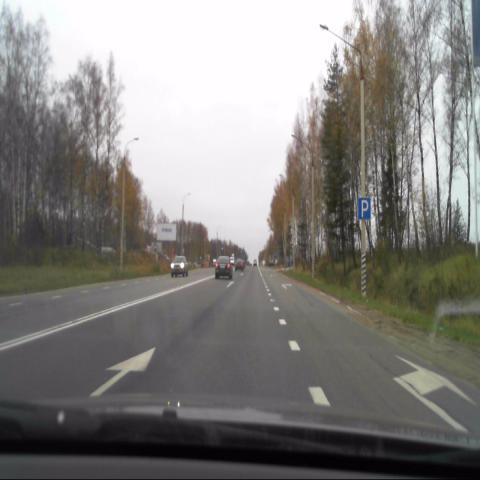6_4: (358, 197, 370, 220)
